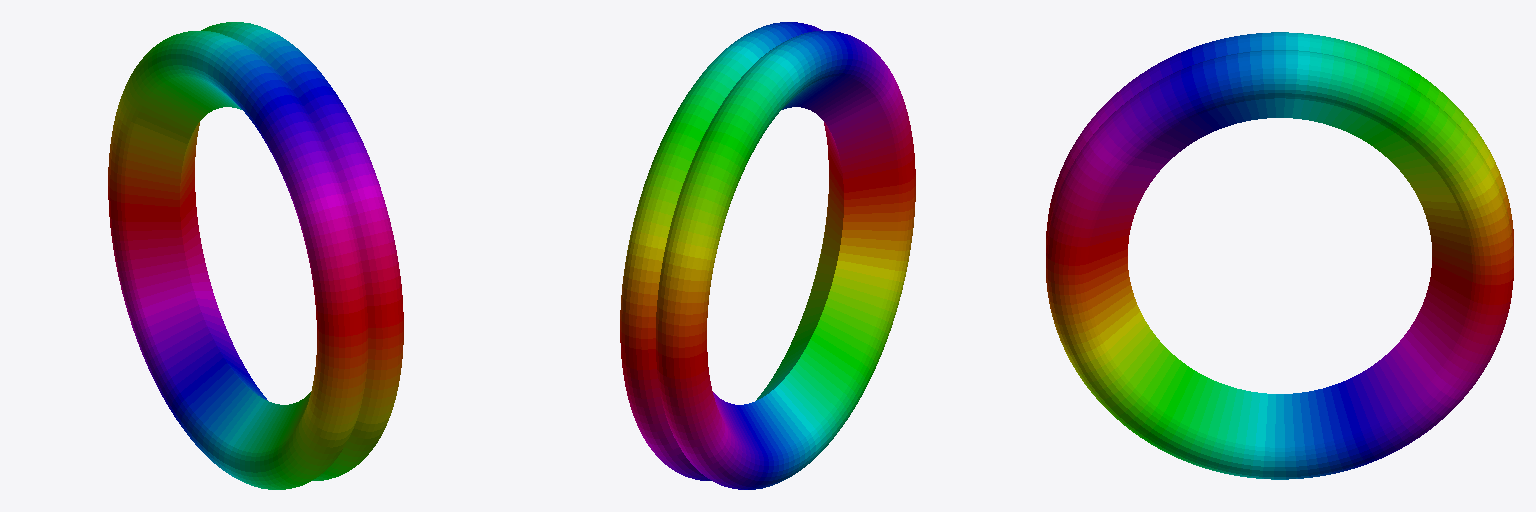
File: hearttorus2.obj
3 views of the same model, side by side, from view 1: azimuth 30°, elevation 25°; view 2: azimuth 150°, elevation 25°; view 3: azimuth 270°, elevation 25° (orthographic).
Parts seen in each view (by area): view 1: Cylinder_Cylinder.001; view 2: Cylinder_Cylinder.001; view 3: Cylinder_Cylinder.001.
Part boxes in pixels (bbox=[...]): Cylinder_Cylinder.001: bbox=[108, 22, 403, 489]; Cylinder_Cylinder.001: bbox=[620, 22, 915, 489]; Cylinder_Cylinder.001: bbox=[1046, 32, 1513, 479].
Size of the model in its own units: 0.4493 by 2.28 by 2.28.